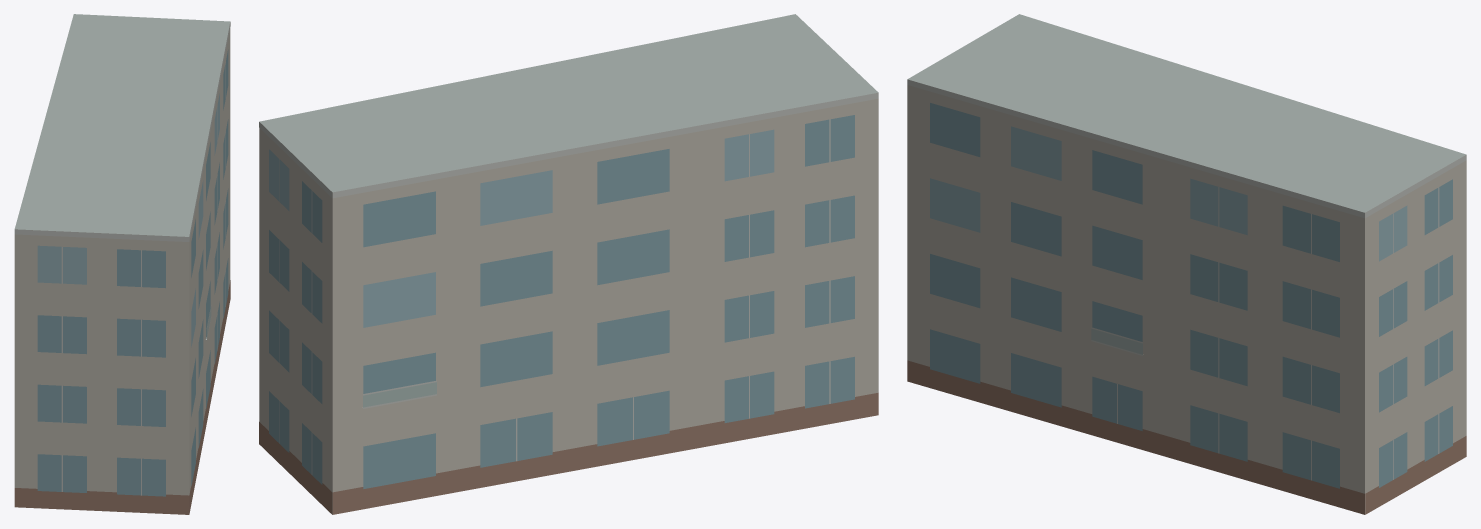
The model's file is survey-upis-32609495.glb.
The picture shows the model from 3 angles, left to right: view 1: azimuth 30°, elevation 25°; view 2: azimuth 150°, elevation 25°; view 3: azimuth 270°, elevation 25°; orthographic projection. The views are drawn at different scales.
Parts seen in each view (by area): view 1: survey-upis-32609495.tmp; view 2: survey-upis-32609495.tmp; view 3: survey-upis-32609495.tmp.
Part boxes in pixels (x1=…): survey-upis-32609495.tmp: x1=14, y1=14, x2=230, y2=514; survey-upis-32609495.tmp: x1=259, y1=14, x2=878, y2=514; survey-upis-32609495.tmp: x1=907, y1=14, x2=1466, y2=514.
Size of the model in its own units: 18.64 by 13.2 by 22.16.
